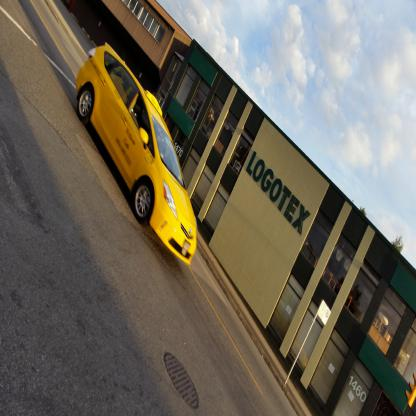Car: (74, 39, 198, 266)
